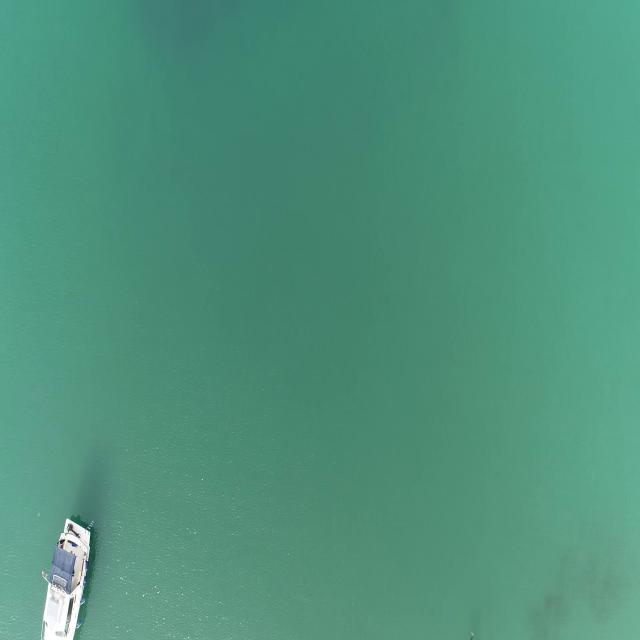boat: (36, 513, 97, 640)
